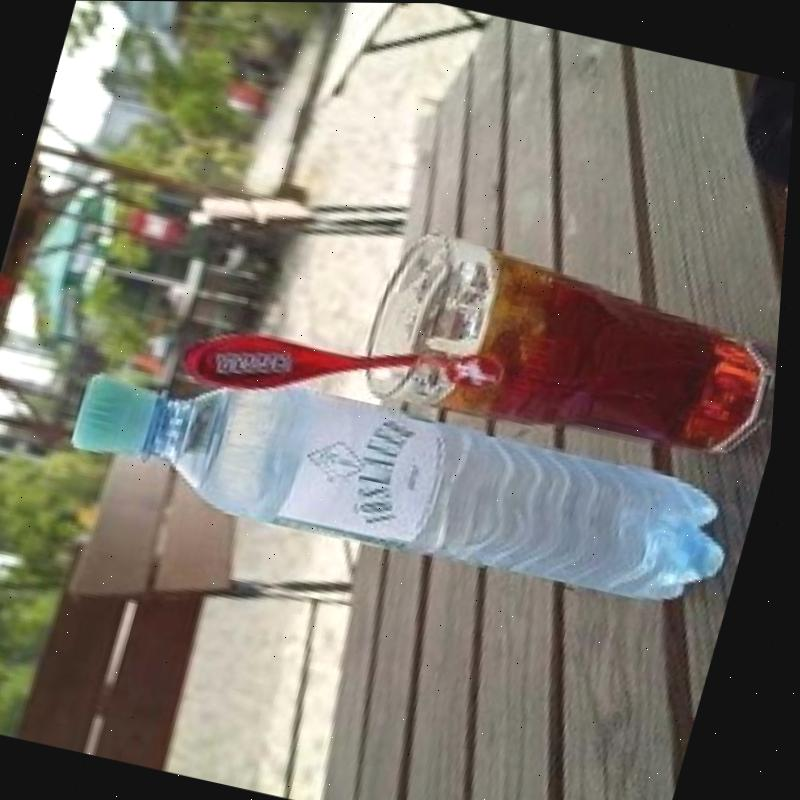botella: (59, 342, 760, 621)
